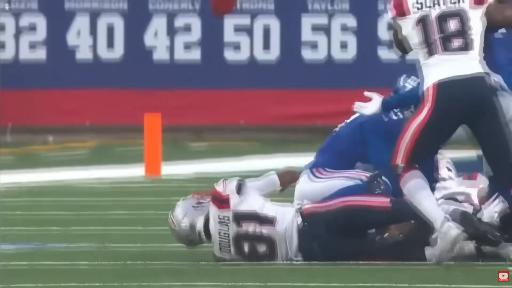Helmet: (169, 194, 210, 246), (436, 156, 458, 183), (395, 75, 420, 93)
Jersey: (306, 80, 422, 197), (389, 0, 492, 88), (209, 173, 300, 261), (484, 27, 511, 89), (434, 174, 487, 205)
Player: (390, 0, 511, 262), (169, 171, 432, 261), (169, 172, 430, 261), (295, 76, 421, 201), (434, 154, 489, 213), (484, 18, 511, 88)
